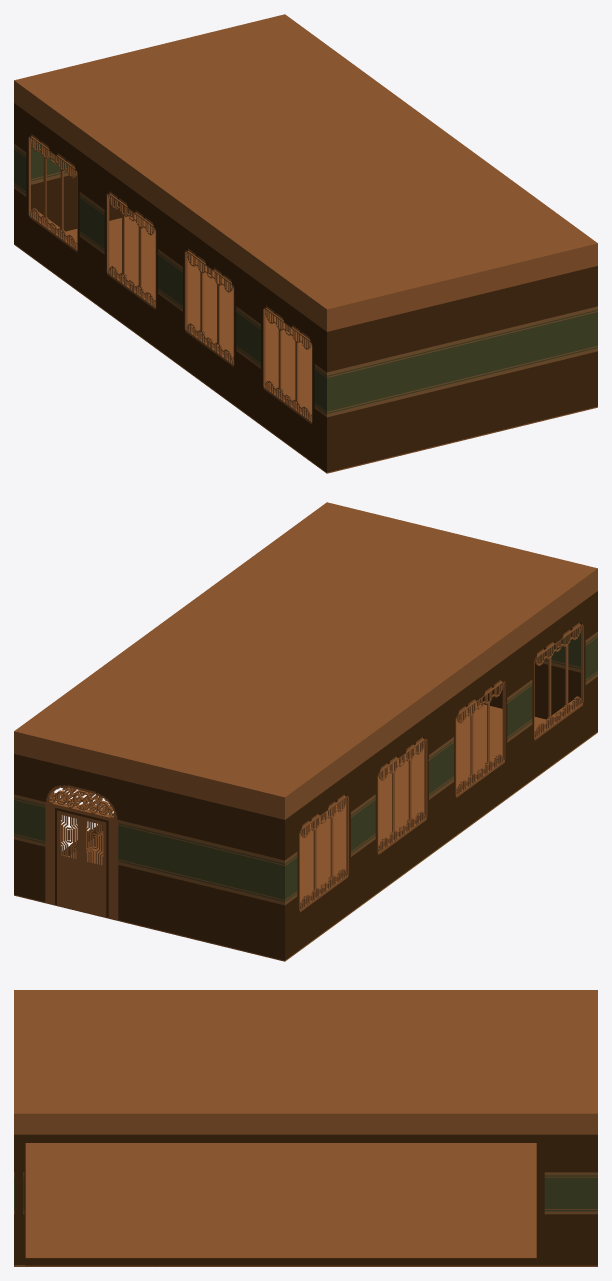
File: Hall.fbx
3 views of the same model, one above another, from view 1: azimuth 30°, elevation 25°; view 2: azimuth 150°, elevation 25°; view 3: azimuth 270°, elevation 25° (orthographic). The views are drawn at different scales.
Parts seen in each view (by area): view 1: c6.001; view 2: c6.001; view 3: c6.001.
Boxes of the visible parts, box(x1,y1,x2,y2) form: c6.001: box(14, 14, 597, 473); c6.001: box(14, 502, 597, 961); c6.001: box(14, 990, 597, 1266).
Bounding box in the file's own units: 378 × 219 × 756.
